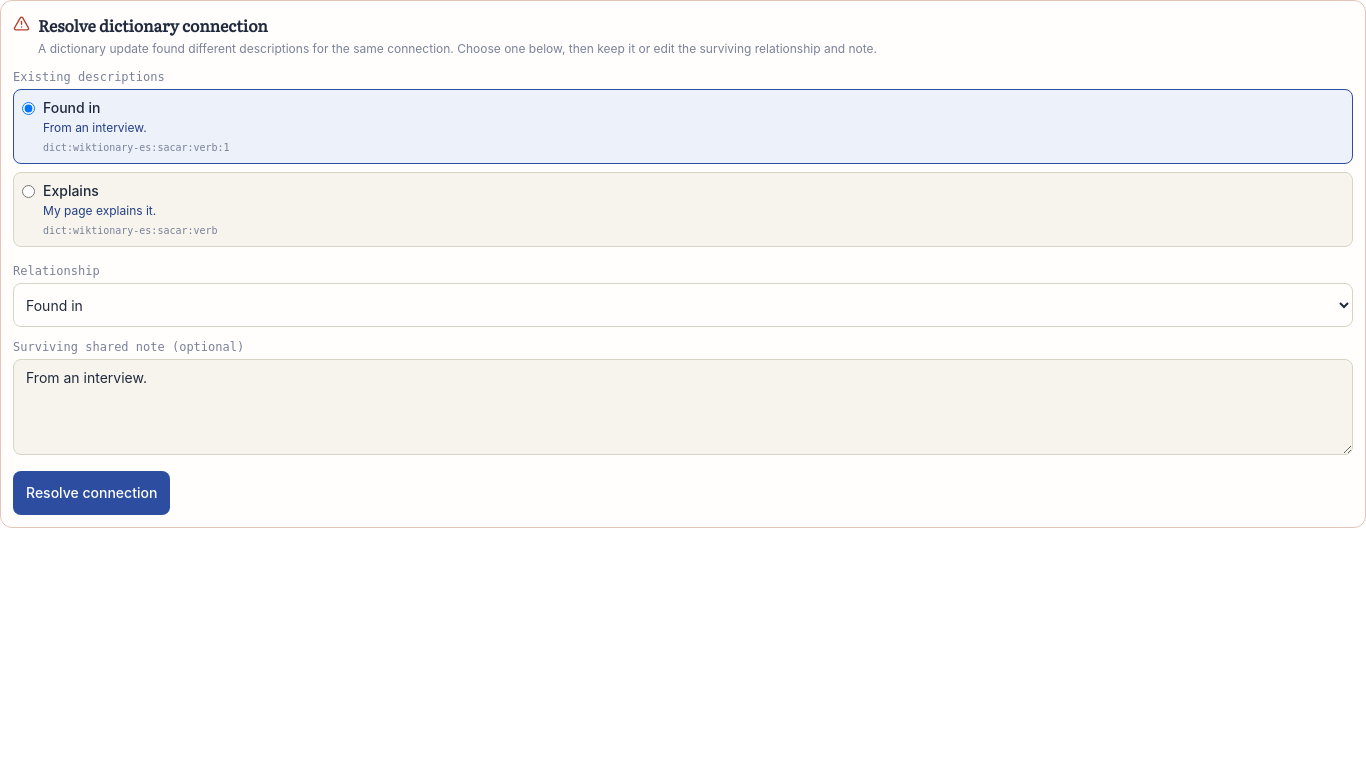
Scenario: AliasConflictResolver › keeps the owner's draft and reports when the dictionary disappears before Save
The image size is (1366, 768).
Replace the text in the text box labelled "Surviving shared note" with "Keep this draft while I reinstall." at [683, 407], box [13,359,1353,455]
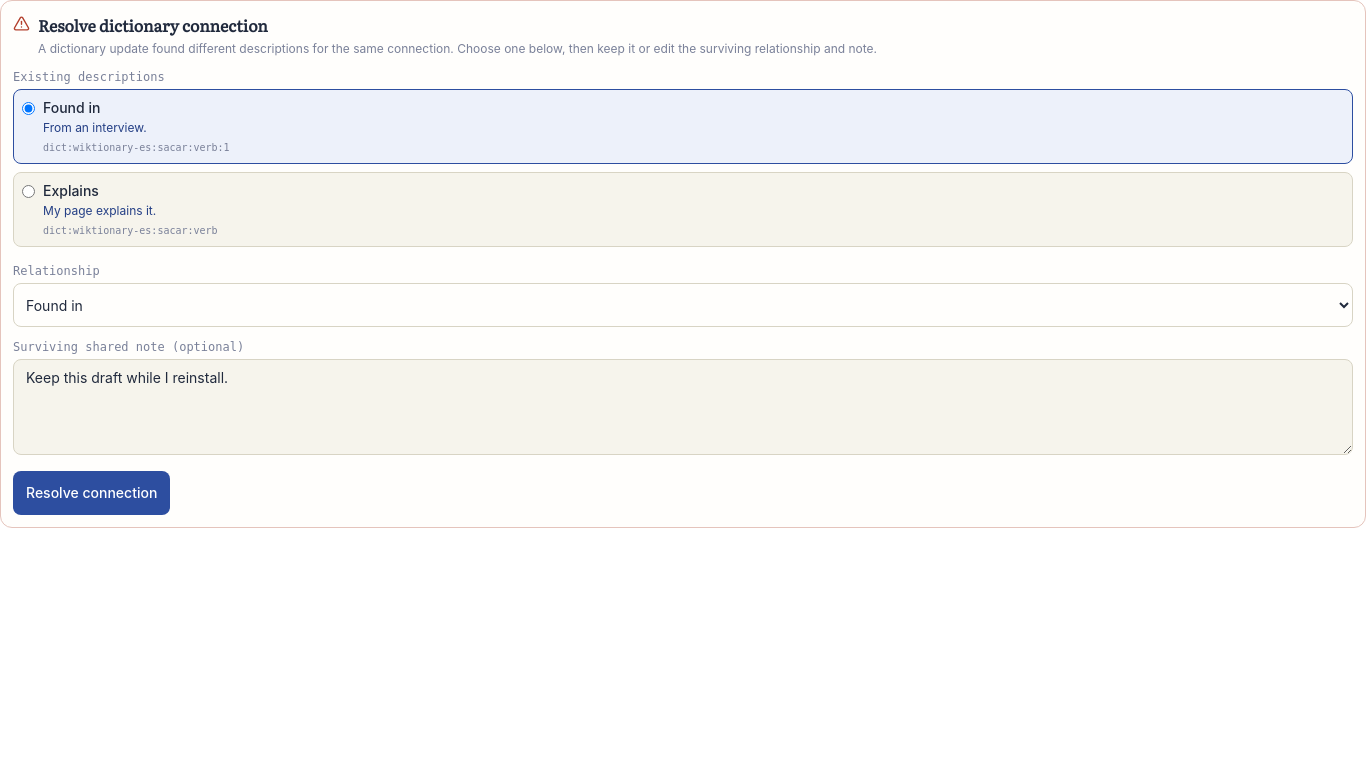
Click the button "Resolve connection" at [92, 493], box [13,471,170,515]
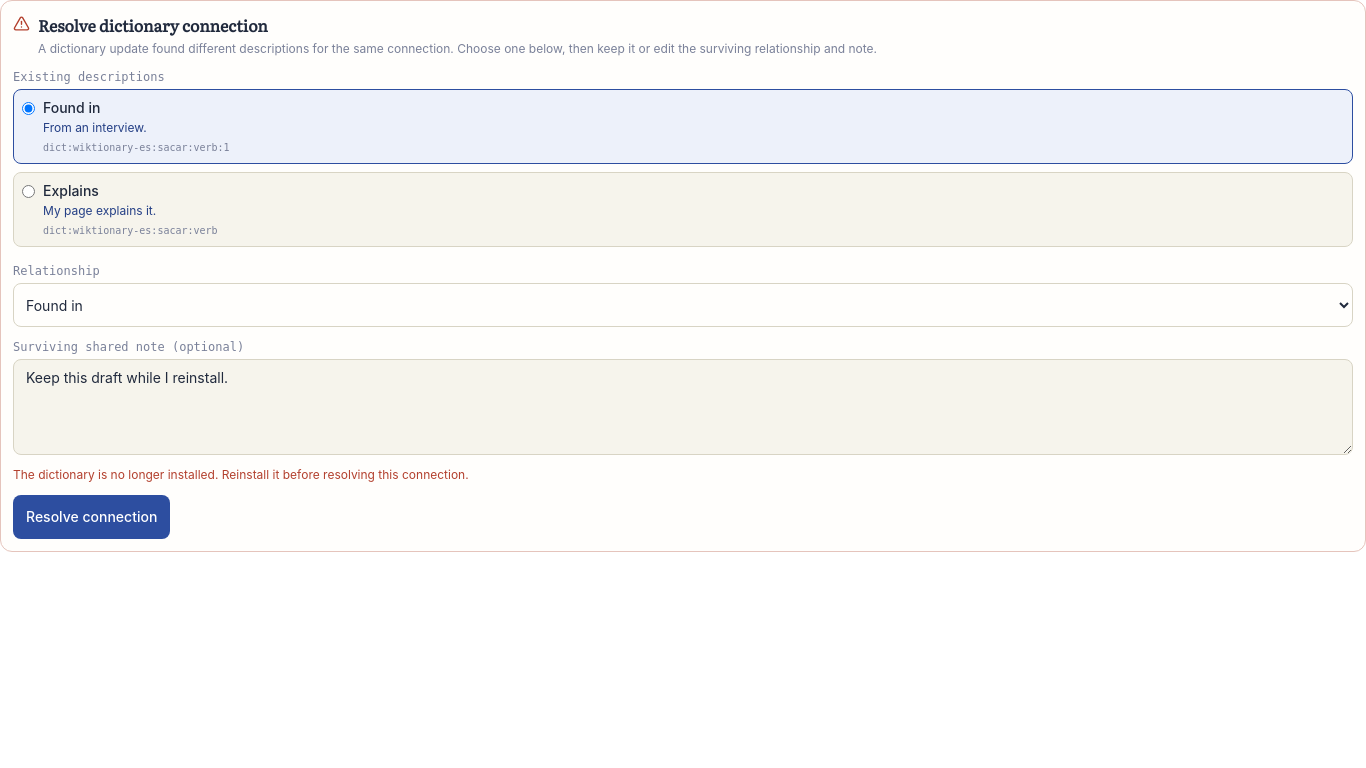
Expected: the heading "Resolve dictionary connection" is shown, [38,13,268,37]
Result: the message shows "The dictionary is no longer installed. Reinstall it before resolving this connection." at [13,467,469,482]
